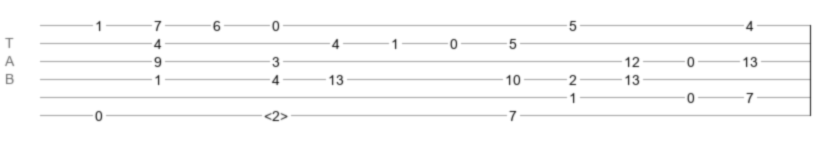0: (95, 108, 103, 118), (272, 18, 280, 28), (450, 36, 458, 46), (687, 54, 695, 64), (687, 90, 695, 100)
1: (95, 18, 103, 28), (154, 72, 162, 82), (391, 36, 399, 46), (569, 90, 577, 100)
10: (505, 72, 521, 82)
12: (624, 54, 640, 64)
13: (328, 72, 344, 82), (624, 72, 640, 82), (742, 54, 758, 64)
2: (569, 72, 577, 82)
3: (272, 54, 280, 64)
4: (154, 36, 162, 46), (272, 72, 280, 82), (332, 36, 340, 46), (746, 18, 754, 28)
5: (509, 36, 517, 46), (569, 18, 577, 28)
6: (213, 18, 221, 28)
7: (154, 18, 162, 28), (509, 108, 517, 118), (746, 90, 754, 100)
9: (154, 54, 162, 64)
harmonic: (264, 108, 288, 118)
